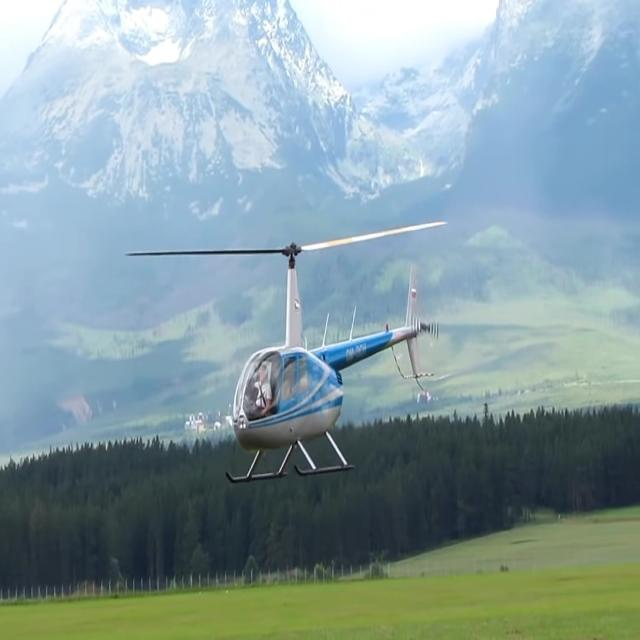CIV_HELO: (224, 240, 425, 485)
